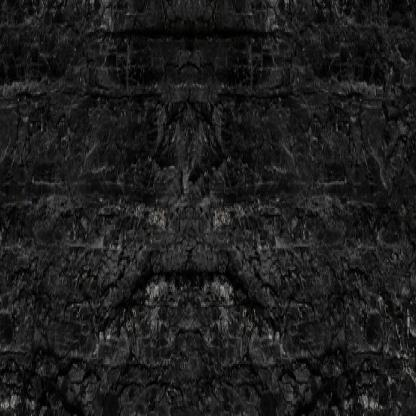Sedimentary_coal: (0, 3, 415, 415)
